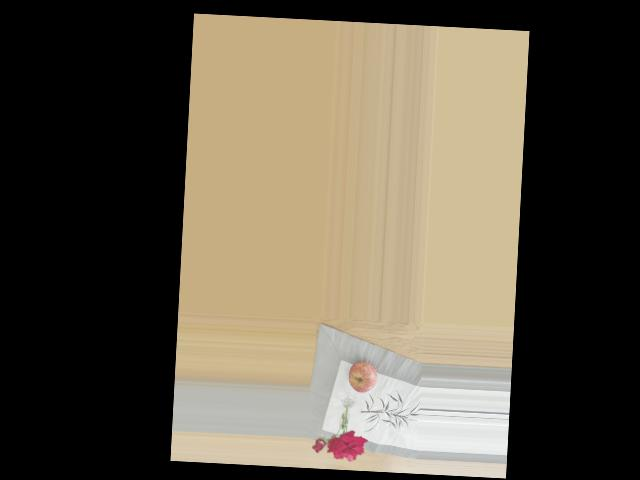apple: (344, 357, 378, 395)
